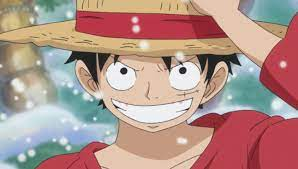luffy: (1, 1, 246, 137)
